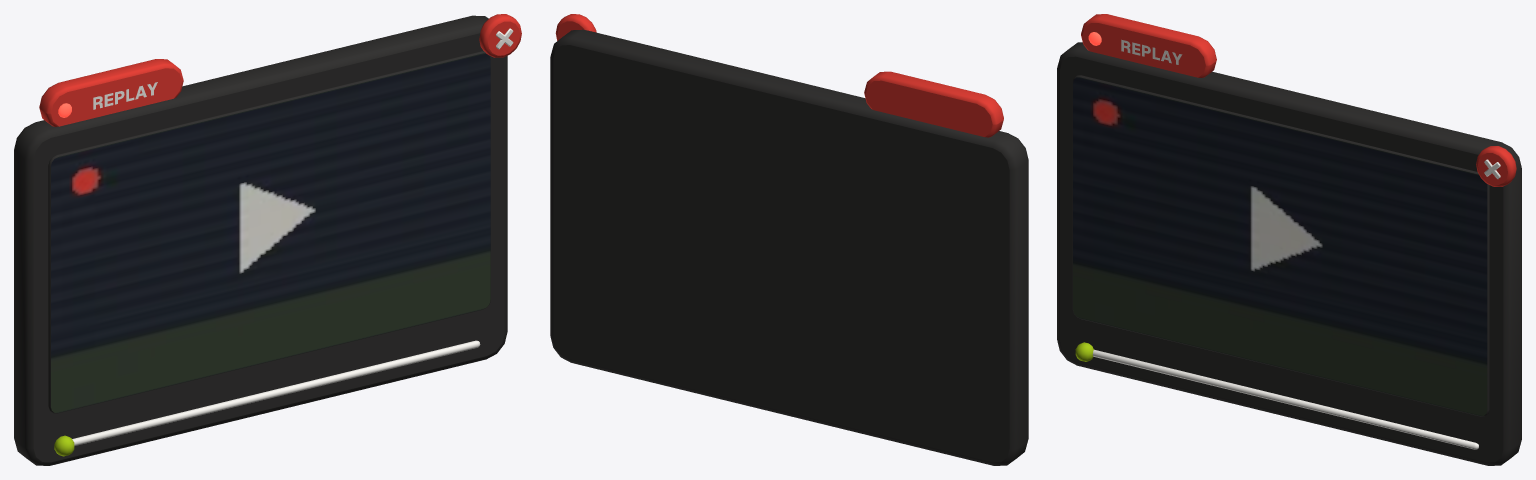
File: replay-screen.glb
3 views of the same model, side by side, from view 1: azimuth 30°, elevation 25°; view 2: azimuth 150°, elevation 25°; view 3: azimuth 330°, elevation 25° (orthographic). The views are drawn at different scales.
Parts seen in each view (by area): view 1: replay-screen-panel, replay-screen-close_button; view 2: replay-screen-panel, replay-screen-close_button; view 3: replay-screen-panel, replay-screen-close_button.
Boxes of the visible parts, x1,y1,x2,y2 form: replay-screen-panel: (14, 15, 507, 465); replay-screen-close_button: (479, 14, 521, 57); replay-screen-panel: (550, 29, 1028, 465); replay-screen-close_button: (555, 14, 596, 40); replay-screen-panel: (1057, 14, 1521, 465); replay-screen-close_button: (1476, 146, 1516, 186).
Size of the model in its own units: 0.854 by 0.62 by 0.0711.
Materials: 6 (1 with a texture image).
